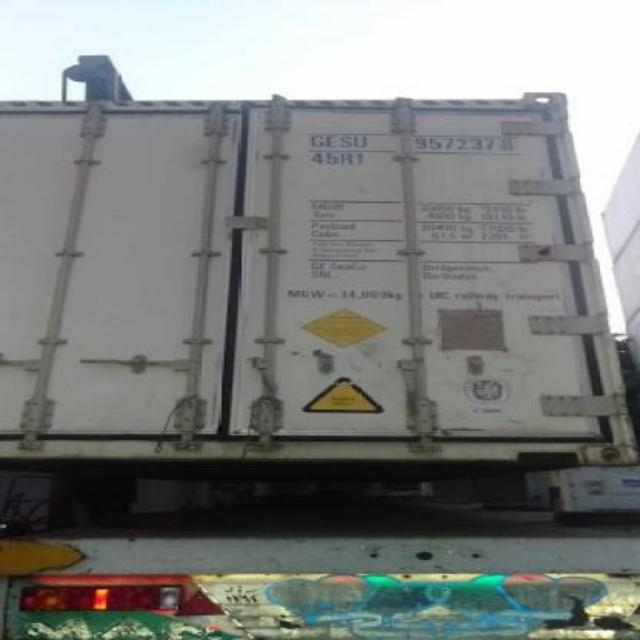2: (454, 135, 470, 155)
3: (466, 132, 484, 154)
5: (428, 132, 442, 154)
7: (480, 132, 496, 152), (441, 132, 454, 154)
8: (496, 132, 524, 158)
9: (410, 133, 428, 153)
E: (326, 133, 339, 149)
G: (310, 131, 328, 151)
S: (341, 130, 354, 150)
U: (351, 132, 372, 148)
